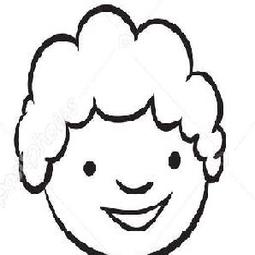nose: (110, 173, 156, 194)
open_mouth: (94, 197, 174, 236)
small_eye: (73, 156, 109, 183), (161, 145, 188, 174)
